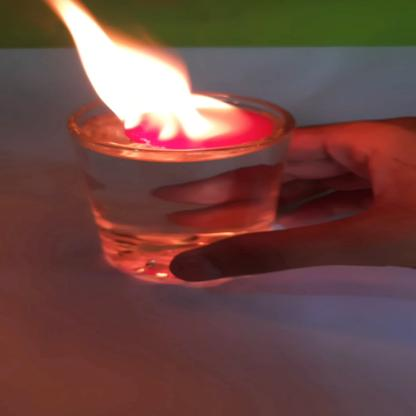Fire: (32, 0, 228, 134)
